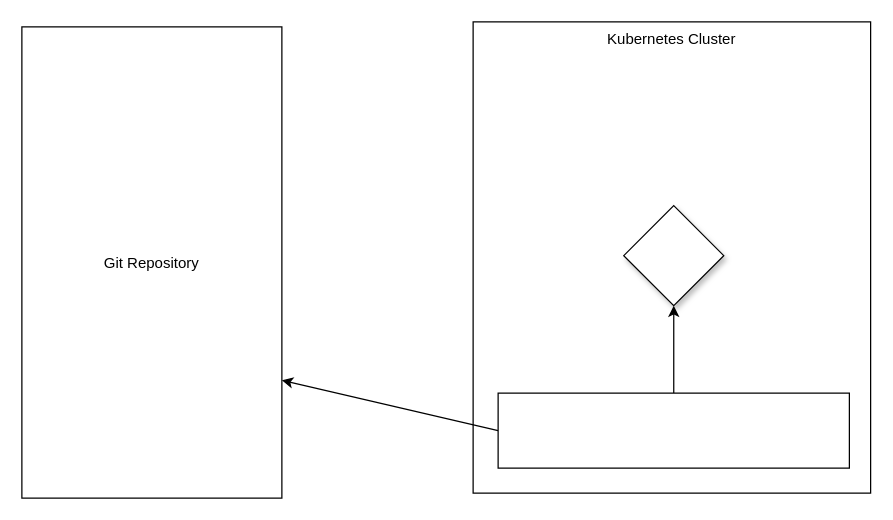
This 893x520 diagram has some shape labels left out. The shapes that lost their labels are listed below. From the top down, each one's centre as x and y in pixels, then its label:
At (x=674, y=256): "Manifests".
At (x=673, y=430): "Flux".
